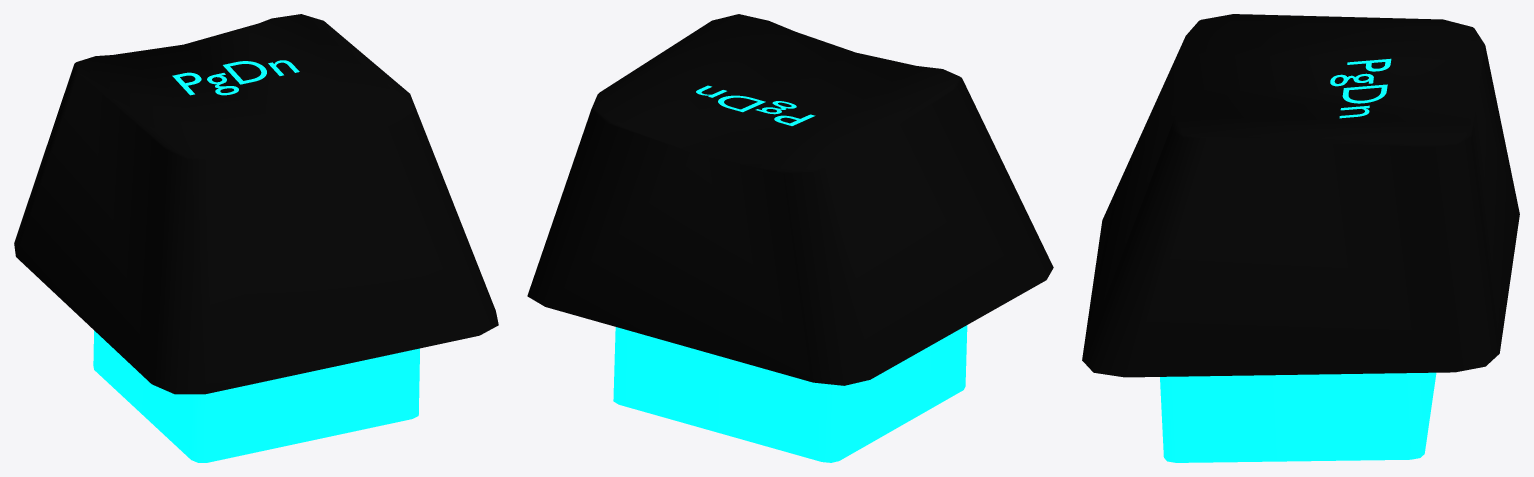
Rendered from key_pagedown-C5oSQQQU.glb.
3 views of the same model, side by side, from view 1: azimuth 30°, elevation 25°; view 2: azimuth 150°, elevation 25°; view 3: azimuth 270°, elevation 25° (orthographic). The views are drawn at different scales.
Parts seen in each view (by area): view 1: StudyShelf_507; view 2: StudyShelf_507; view 3: StudyShelf_507.
Part boxes in pixels (<box>): StudyShelf_507: <box>14,14,498,462</box>; StudyShelf_507: <box>527,14,1053,462</box>; StudyShelf_507: <box>1082,14,1519,462</box>.
Size of the model in its own units: 4.35 by 3.62 by 4.35.
